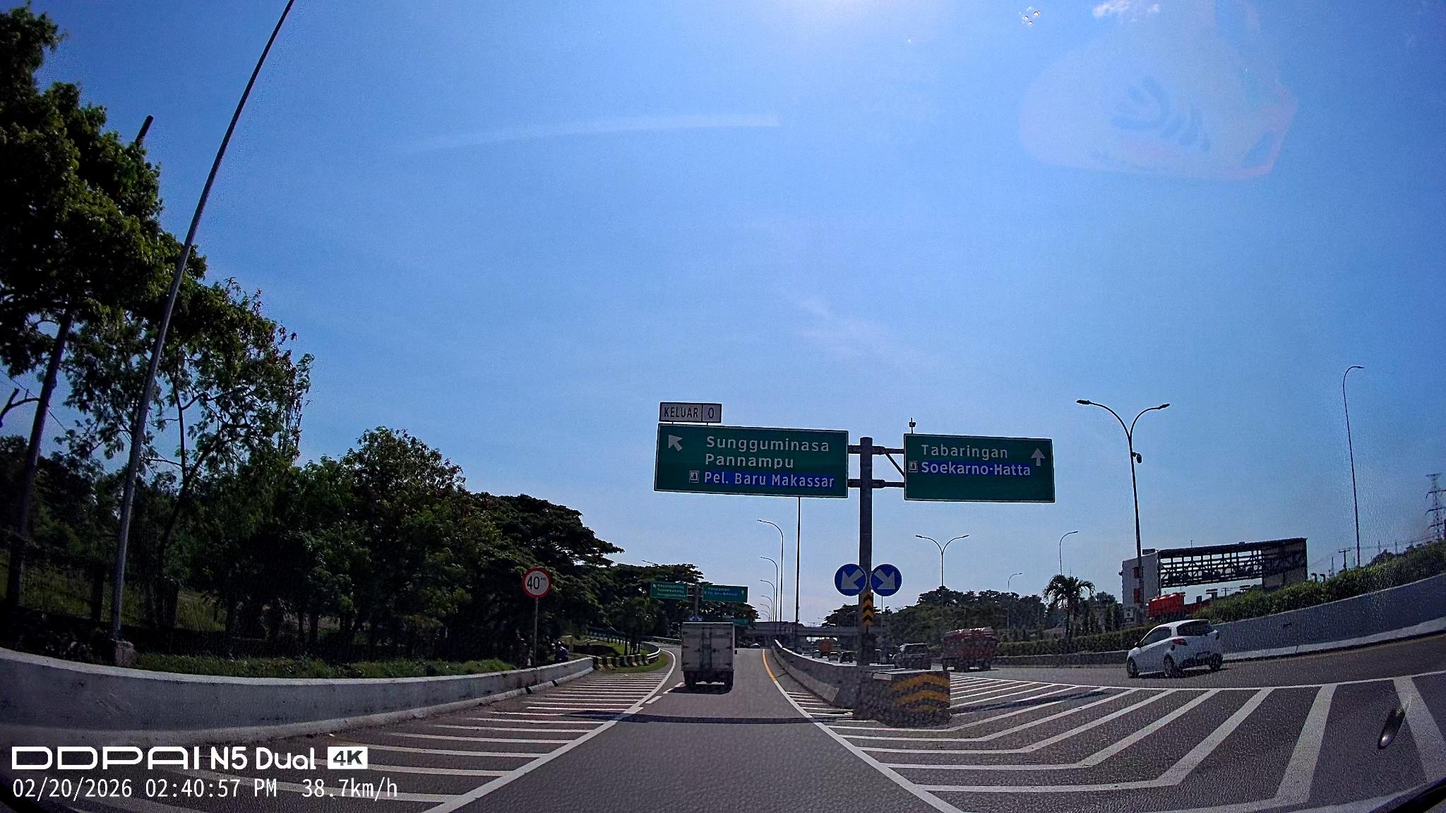rambu_teks: (655, 424, 848, 496), (904, 433, 1055, 506)
